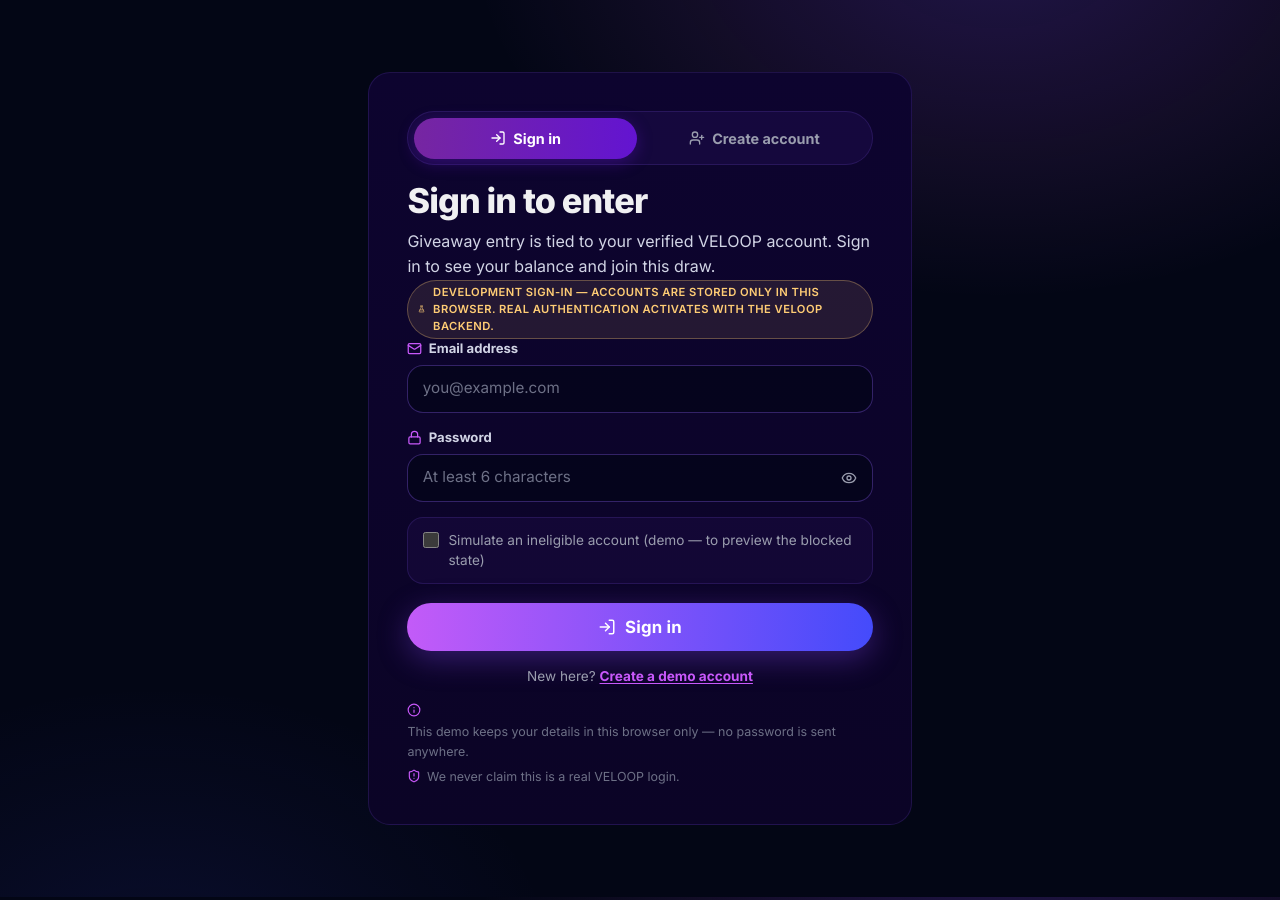
Scenario: LoginPage — sign in › refuses to sign in when no demo account exists on this device
The width and height of the screenshot is (1280, 900).
Step 1. Type "asha@example.com" into the field labelled "Email address" → {"x": 640, "y": 389}, box left=407, top=365, right=873, bottom=413
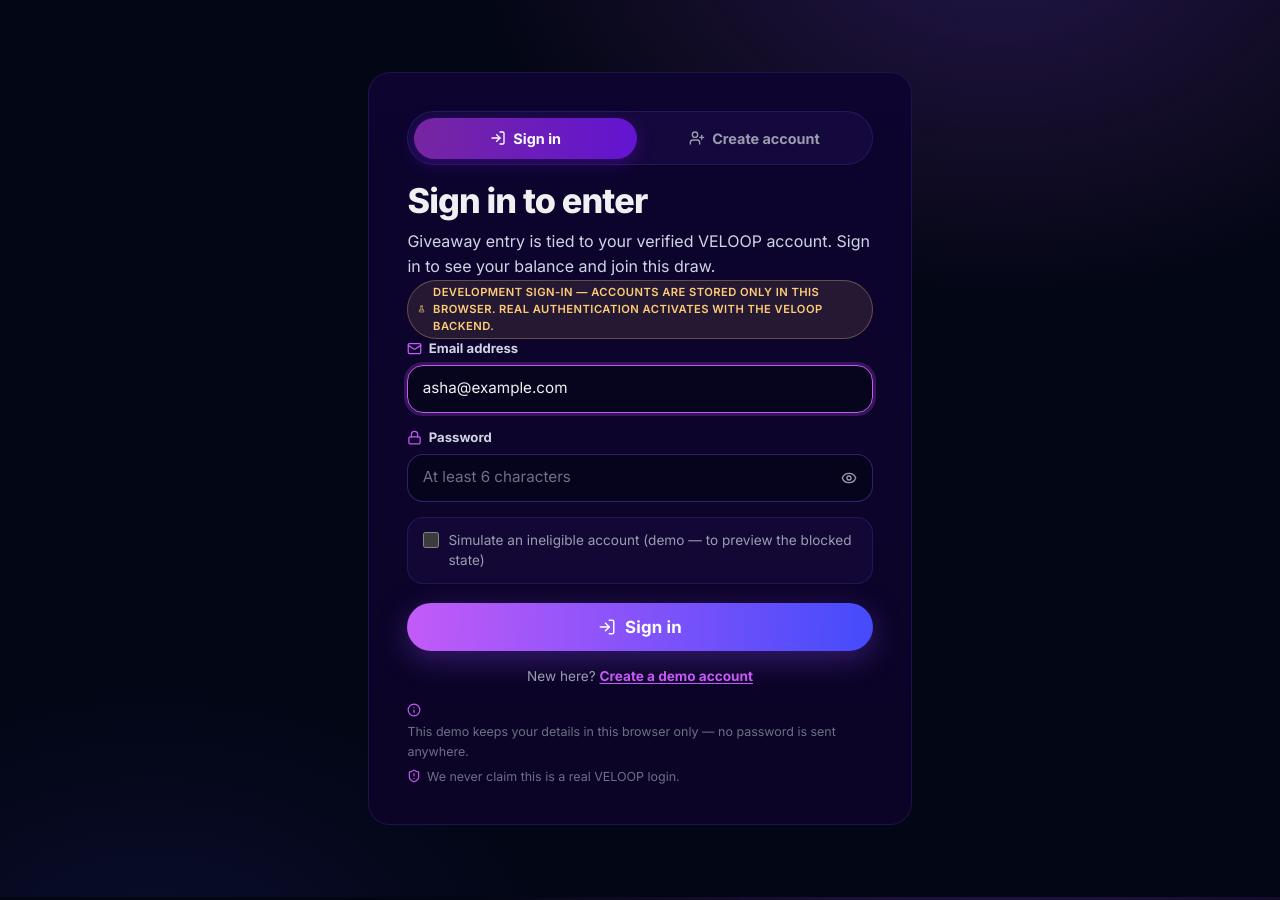
Step 2. Type "secret1" into the password field labelled "Password" → {"x": 640, "y": 478}, box left=407, top=454, right=873, bottom=502
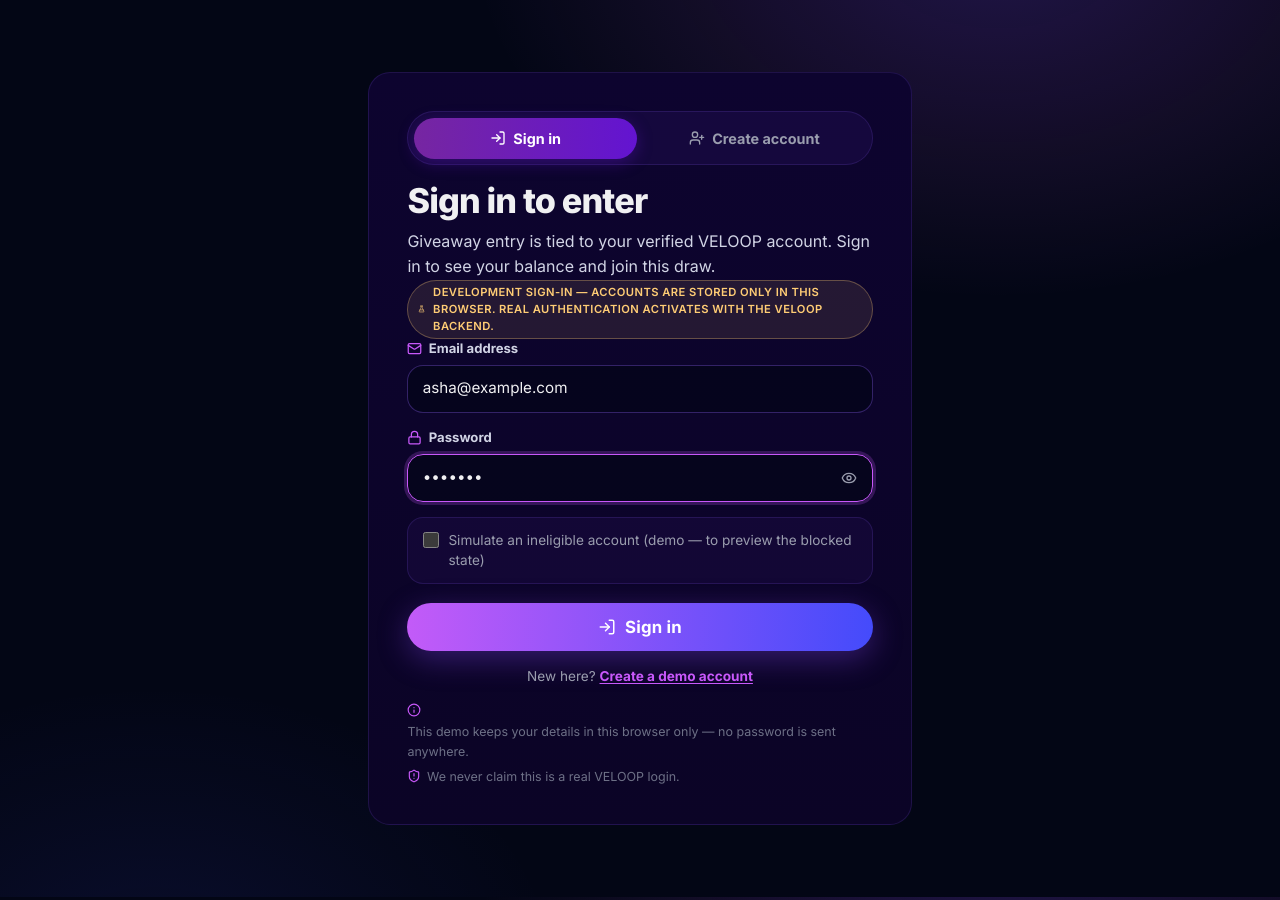
Step 3. Click the submit button → {"x": 640, "y": 627}, box left=407, top=603, right=873, bottom=651
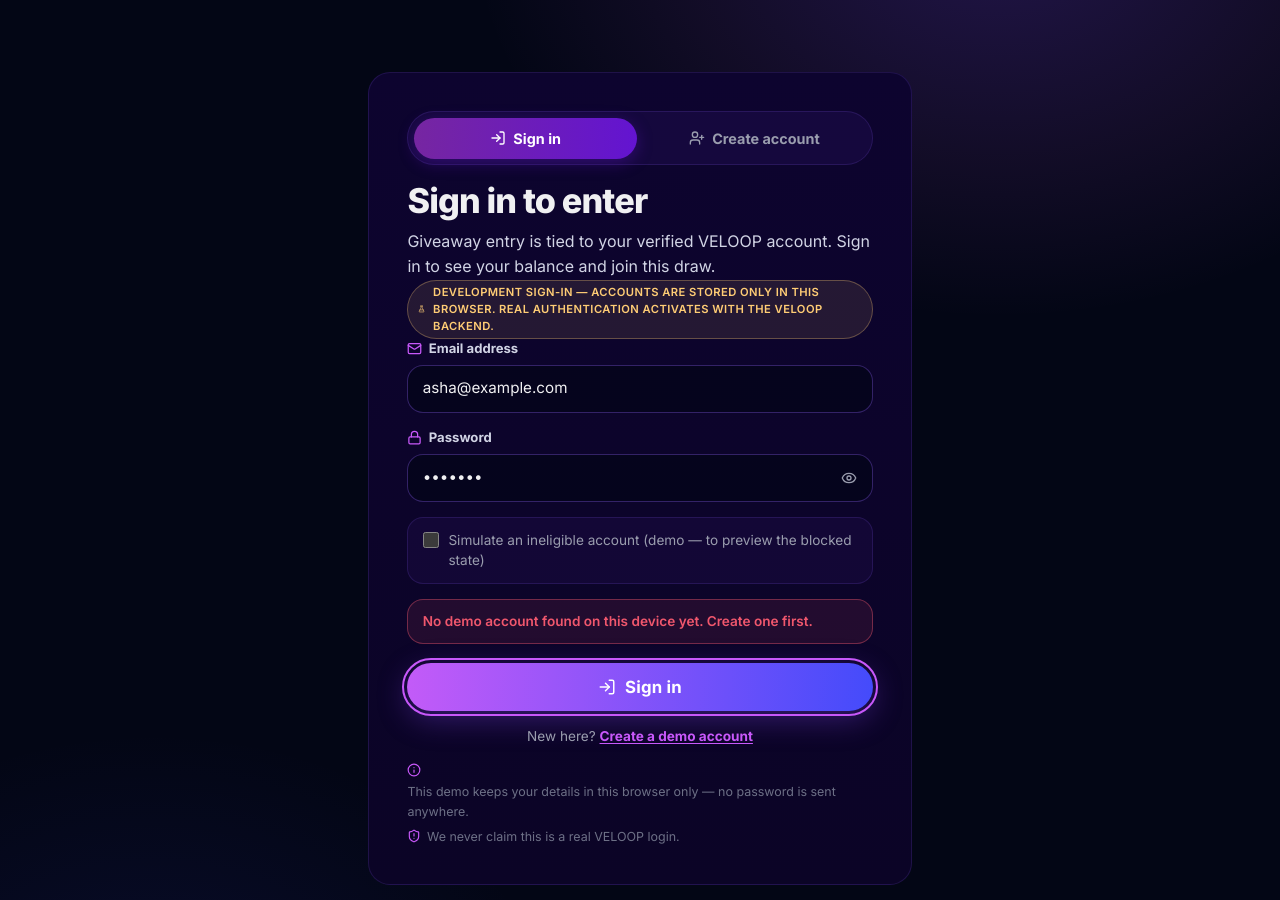
Check: the text "No demo account found on this device yet. Create one first." is shown, box left=407, top=599, right=873, bottom=644
